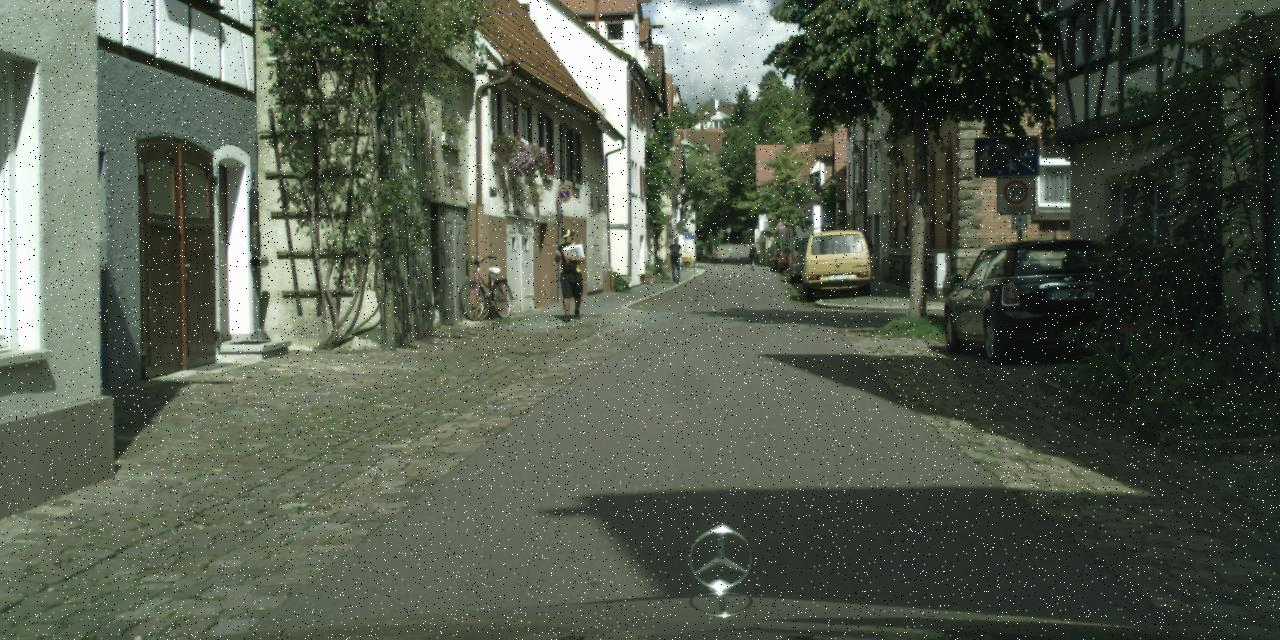ped: (551, 229, 588, 319), (666, 235, 686, 283), (857, 236, 874, 278), (747, 242, 757, 266)
